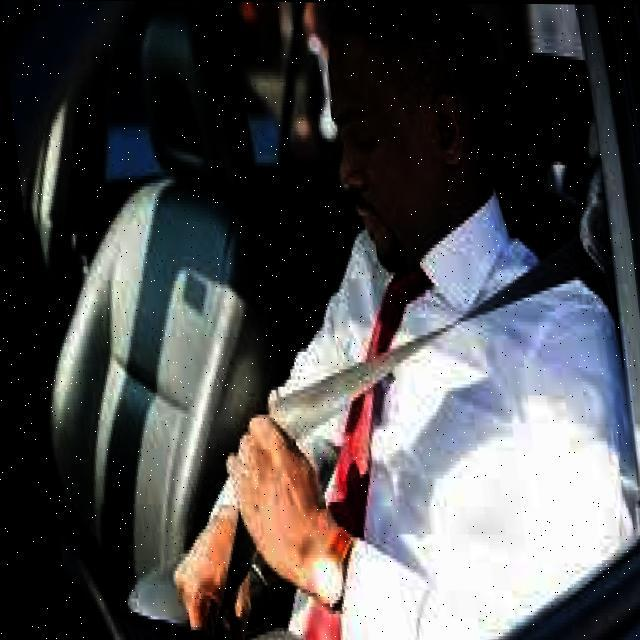seatbelt: (170, 189, 635, 582)
